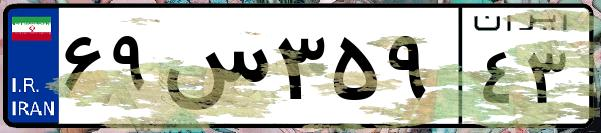3: (270, 28, 330, 110), (525, 38, 570, 115)
4: (475, 38, 525, 113)
5: (330, 28, 385, 110)
6: (57, 26, 110, 100)
9: (385, 28, 445, 110), (110, 28, 158, 98)
س: (158, 20, 270, 120)
